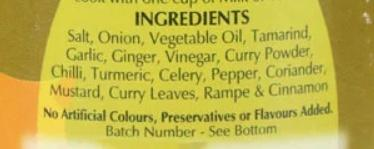ingredients: (36, 6, 358, 138)
